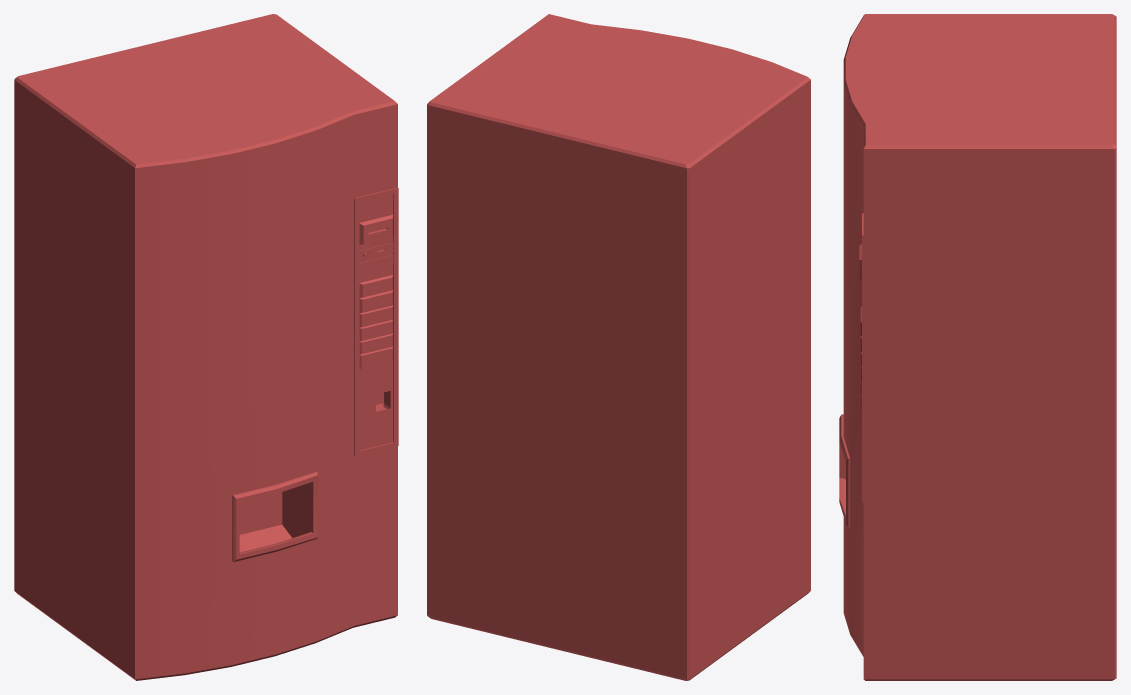
Rendered from Real_SodaMachine_Unchecked_ND.fbx.
The picture shows the model from 3 angles, left to right: view 1: azimuth 30°, elevation 25°; view 2: azimuth 150°, elevation 25°; view 3: azimuth 270°, elevation 25°; orthographic projection. The views are drawn at different scales.
Visible parts, largest first — view 1: Soda Machine; view 2: Soda Machine; view 3: Soda Machine.
Boxes of the visible parts, bbox=[...] form: Soda Machine: bbox=[14, 14, 398, 680]; Soda Machine: bbox=[427, 14, 810, 680]; Soda Machine: bbox=[839, 14, 1116, 680].
Size of the model in its own units: 33.84 by 63.54 by 29.79.
